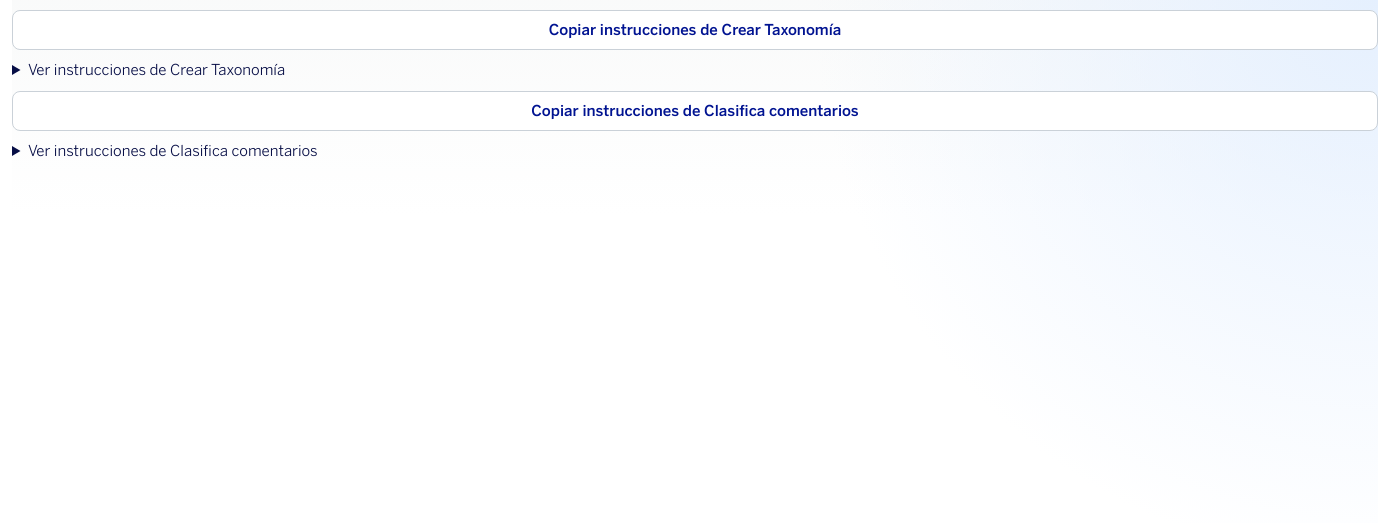
Test: reveals selectable text when clipboard access is denied
This screenshot has width=1390, height=523.
Click the button "Copiar instrucciones de Crear Taxonomía" at point(695, 30), box [12,10,1378,50]
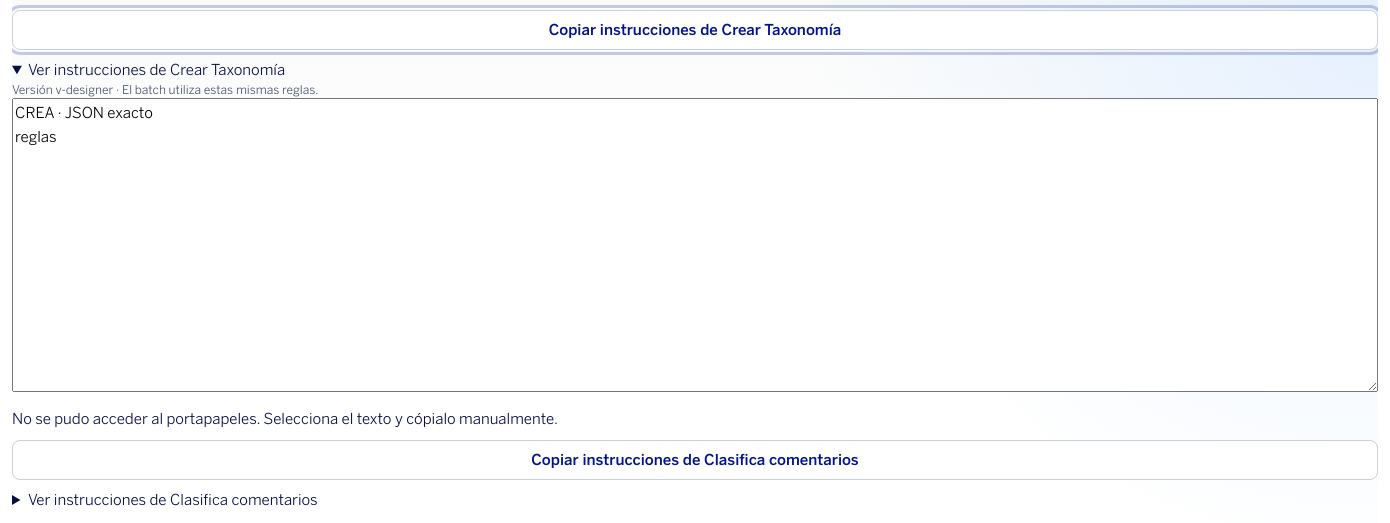
Check: the text "No se pudo acceder al portapapeles. Selecciona el texto y cópialo manualmente." is shown, box [12,410,558,428]
